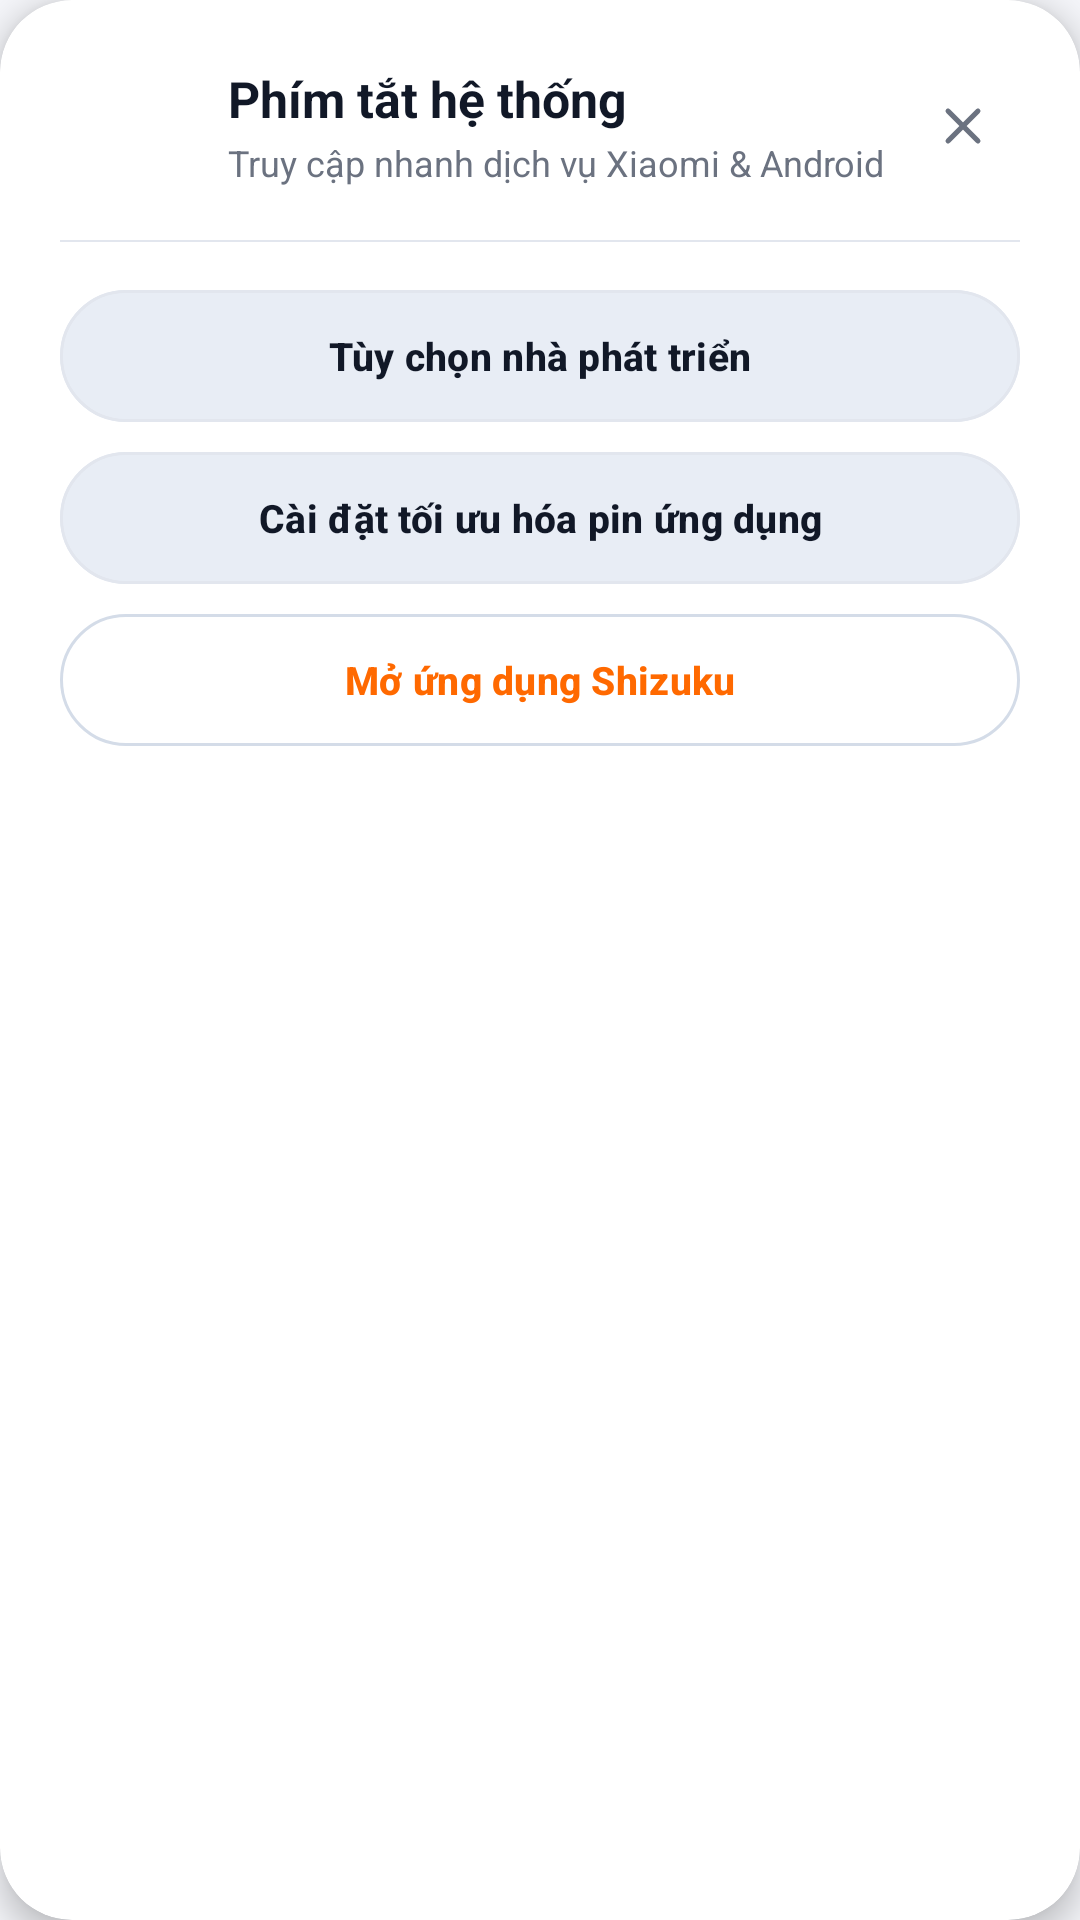

Named icons in this screenshot (1080 x 1920) and their bounding boxes, (x1, y1, x2, y2):
close: (945, 108, 981, 144)
